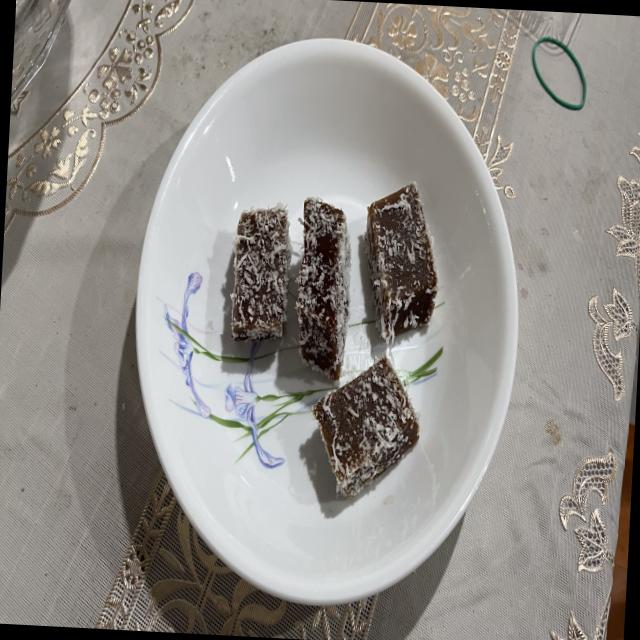kaswi: (313, 357, 419, 497), (366, 182, 437, 344), (296, 197, 351, 381), (231, 202, 292, 341), (372, 418, 374, 421)
